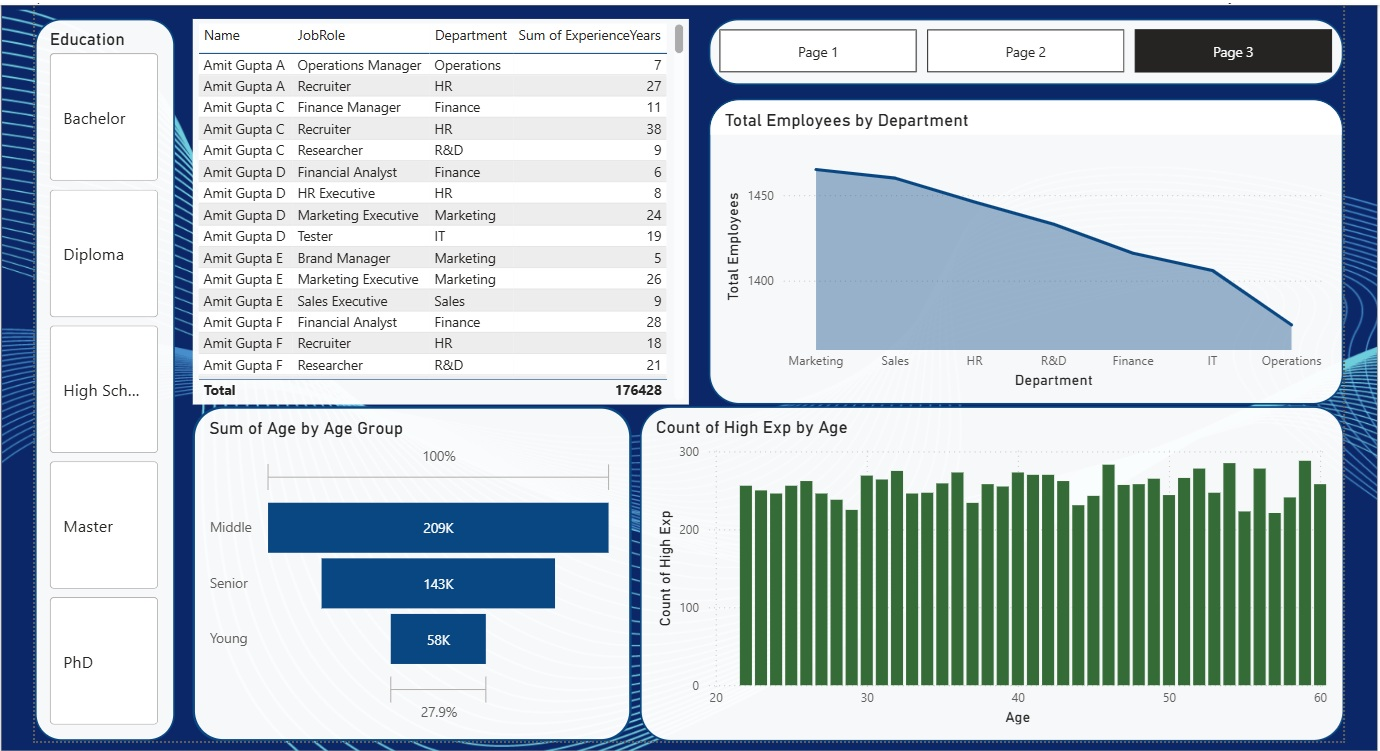

What the dashboard file says about the page in this screenshot:
{"tool":"powerbi","page":{"name":"Page 3","canvas":[1280,720],"ordinal":2},"visuals":[{"type":"areaChart","fields":{"Category":["Employee_Data.Department"],"Y":["Employee_Data.Total Employees"]},"box":[659.1,91.7,621.2,299.6],"z":0},{"type":"advancedSlicerVisual","fields":{"Values":["Employee_Data.Education"]},"box":[0,13.5,137,706.8],"z":1000},{"type":"columnChart","fields":{"Category":["Employee_Data.Age"],"Y":["CountNonNull(Employee_Data.High Exp)"]},"box":[591.9,392.5,688.5,327.7],"z":2000},{"type":"funnel","fields":{"Y":["Sum(Employee_Data.Age)"],"Category":["Employee_Data.Age Group"]},"box":[154.1,392.5,429.2,327.7],"z":3000},{"type":"pageNavigator","box":[659.1,13.5,621.2,64.8],"z":4000},{"type":"tableEx","fields":{"Values":["Employee_Data.Name","Employee_Data.JobRole","Employee_Data.Department","Sum(Employee_Data.ExperienceYears)"]},"box":[154.1,13.5,485.5,377.9],"z":5000}]}

Visuals, with their boxes in screenshot pixels (x1, y1, x2, y2):
areaChart - Employee_Data.Department x Employee_Data.Total Employees: <box>707,94,1346,403</box>
advancedSlicerVisual - Employee_Data.Education: <box>29,14,170,741</box>
columnChart - Employee_Data.Age x CountNonNull(Employee_Data.High Exp): <box>638,404,1346,741</box>
funnel - Sum(Employee_Data.Age) x Employee_Data.Age Group: <box>187,404,629,741</box>
pageNavigator: <box>707,14,1346,81</box>
tableEx - Employee_Data.Name x Employee_Data.JobRole: <box>187,14,687,403</box>
